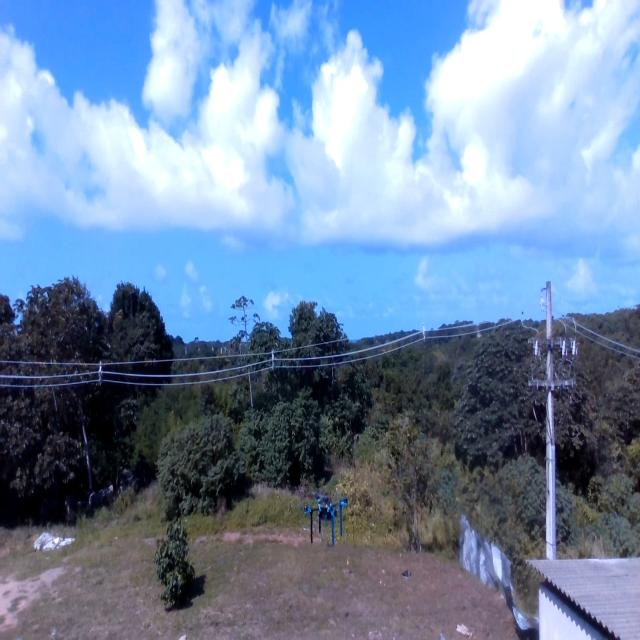-uav-: (295, 483, 363, 564)
